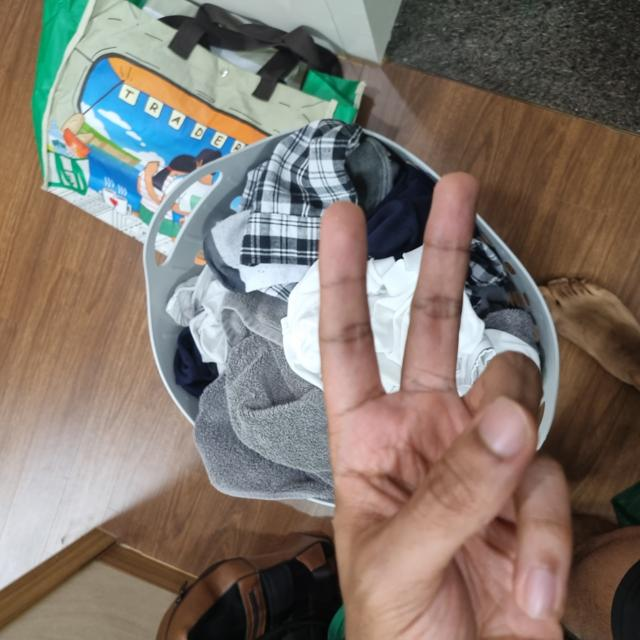Scissors: (0, 318, 452, 573)
